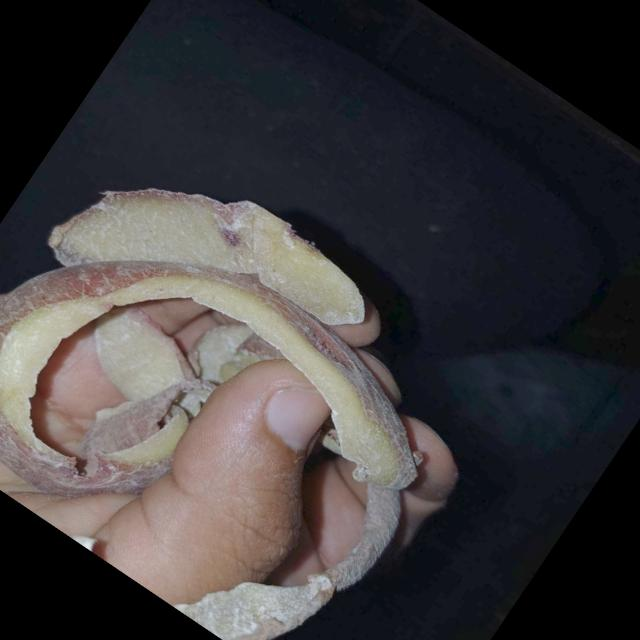organic: (0, 113, 508, 640)
